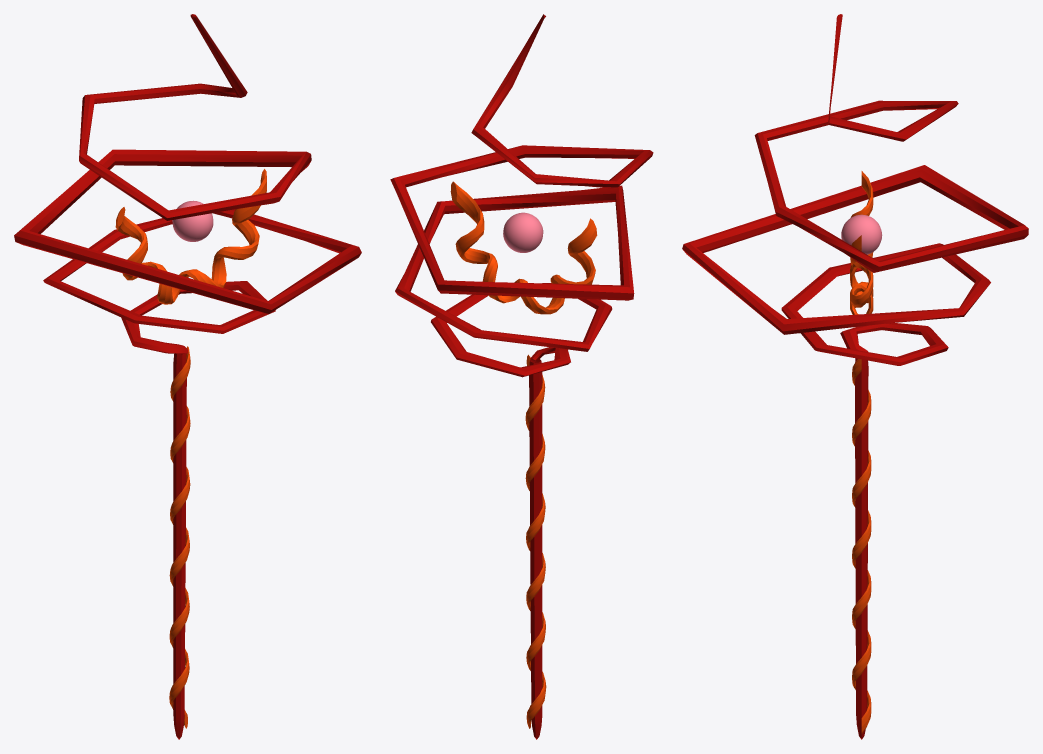
File: wand_fire.obj
The picture shows the model from 3 angles, left to right: view 1: azimuth 30°, elevation 25°; view 2: azimuth 150°, elevation 25°; view 3: azimuth 270°, elevation 25°; orthographic projection. The views are drawn at different scales.
Bounding box in the file's own units: 3.54 × 8.99 × 3.88.
